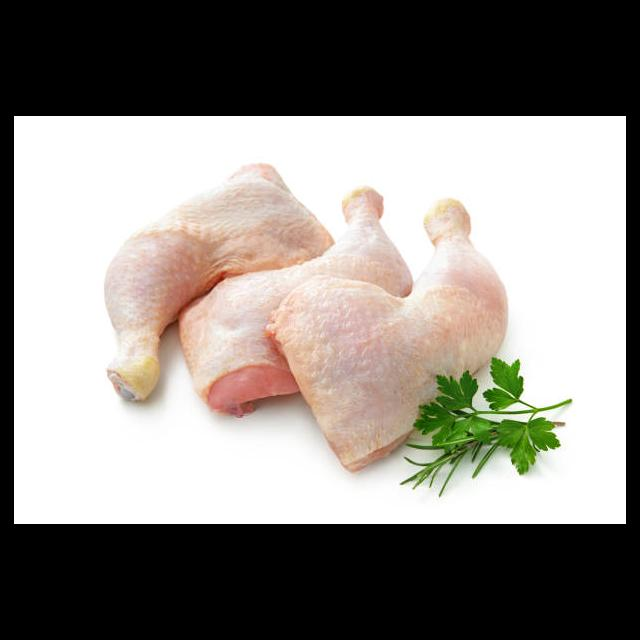chicken: (278, 200, 511, 473), (101, 166, 337, 412), (181, 184, 412, 423)
